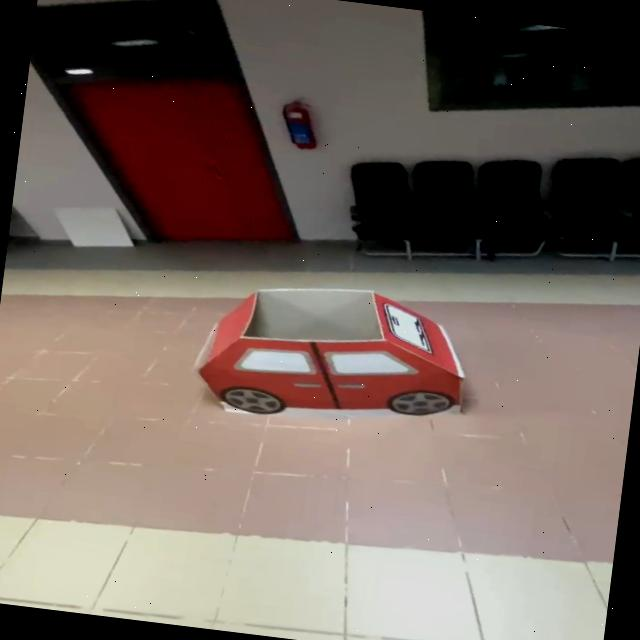red_car: (155, 252, 508, 468)
